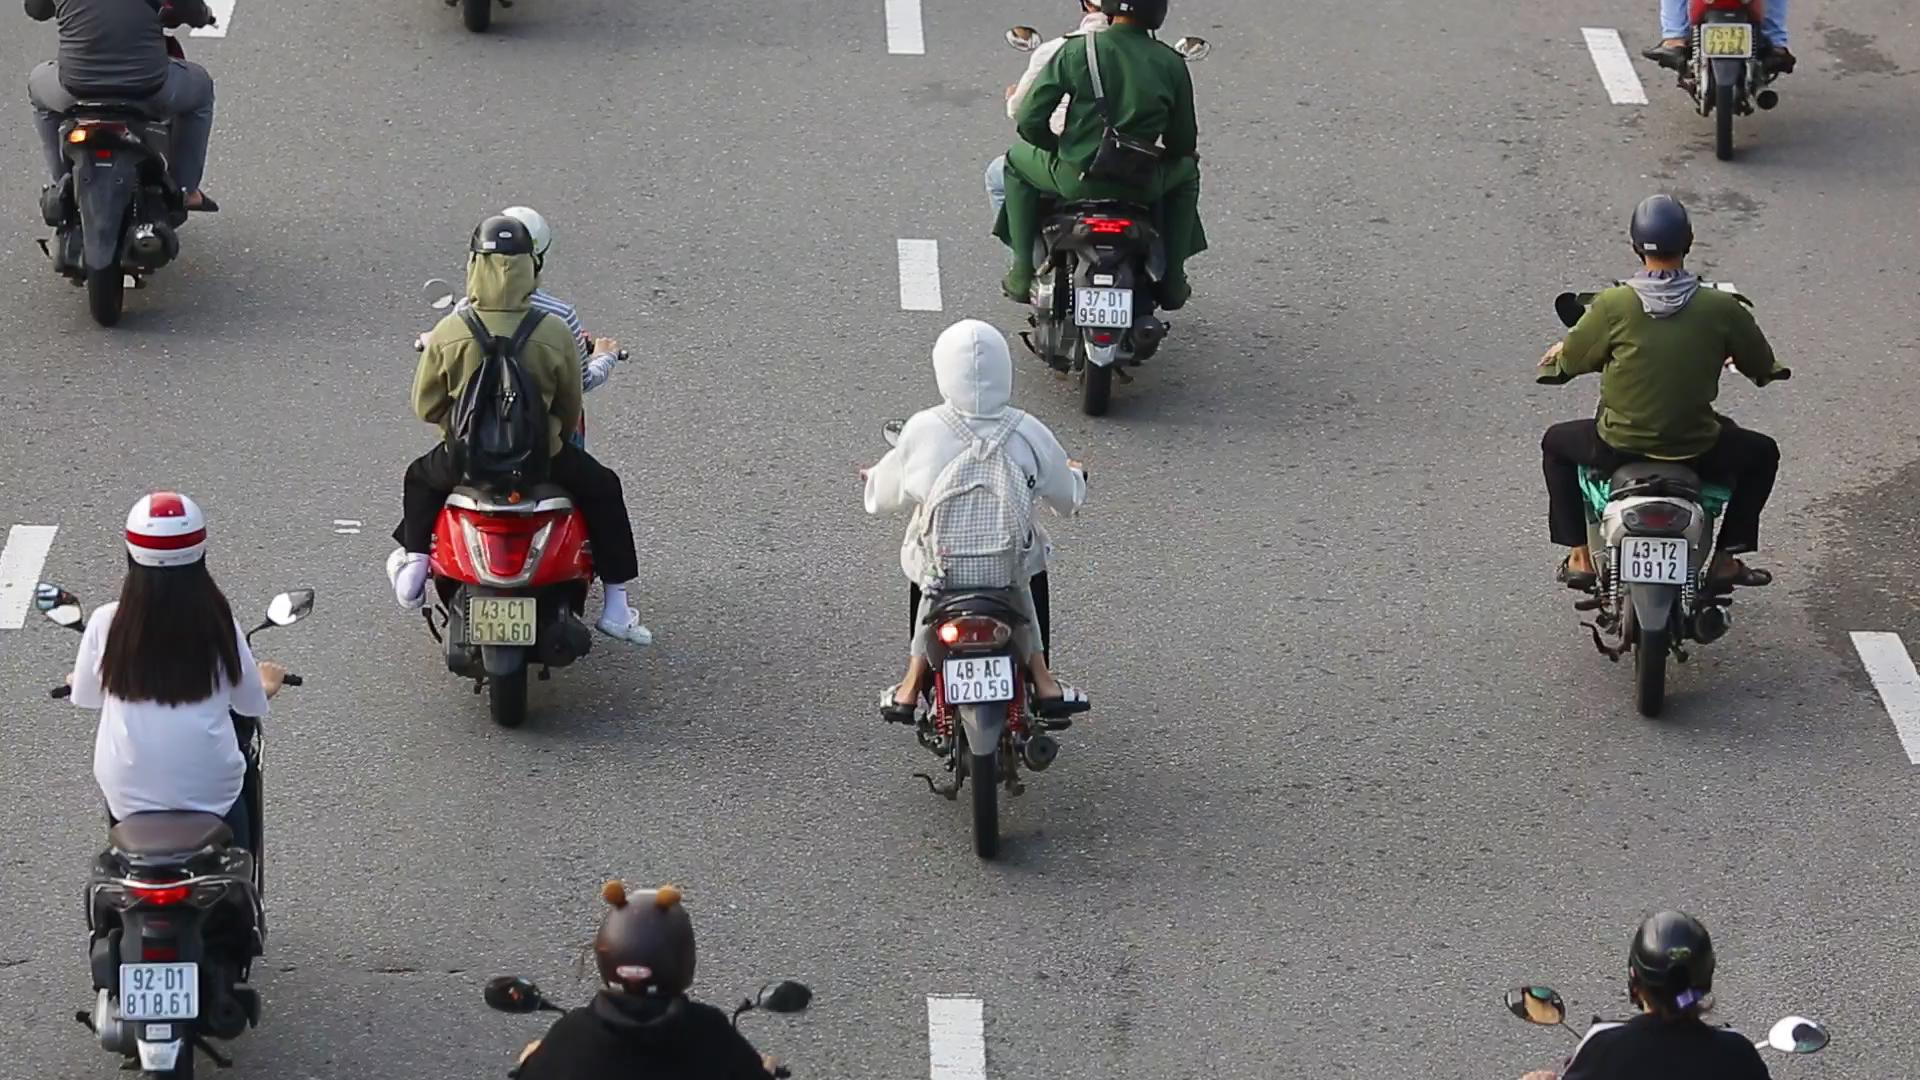motobike: (367, 202, 671, 740), (41, 487, 314, 1080), (1522, 189, 1792, 720), (856, 313, 1102, 877)
